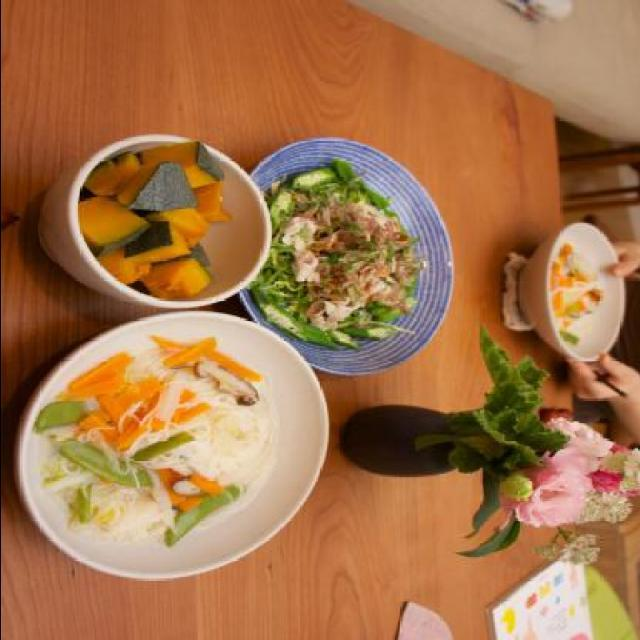Salad: (251, 158, 431, 350), (544, 239, 610, 347)
